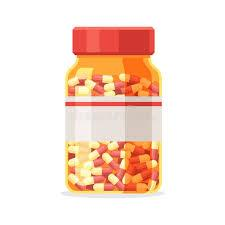jar: (65, 27, 161, 193)
